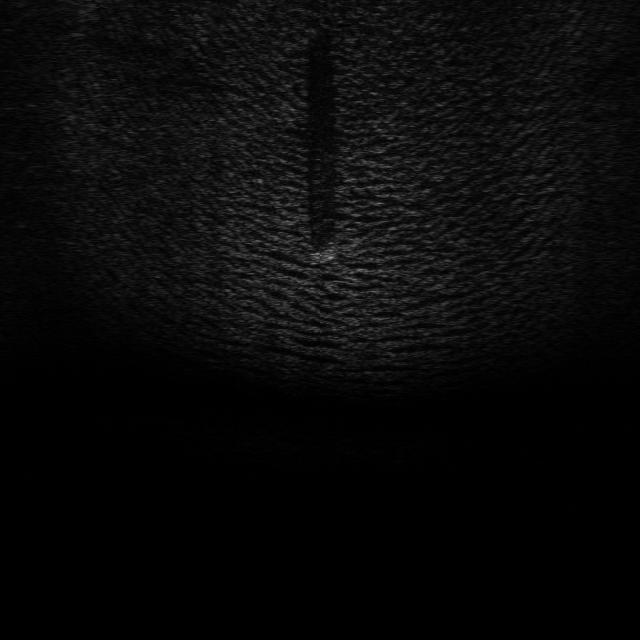cube: (307, 242, 342, 264)
